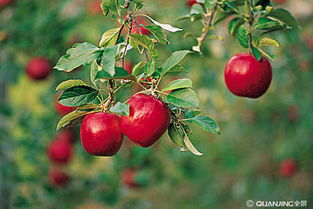obscured(0)_apple: (223, 51, 276, 99), (78, 111, 127, 157)
obscured(2)_apple: (121, 93, 174, 150)
